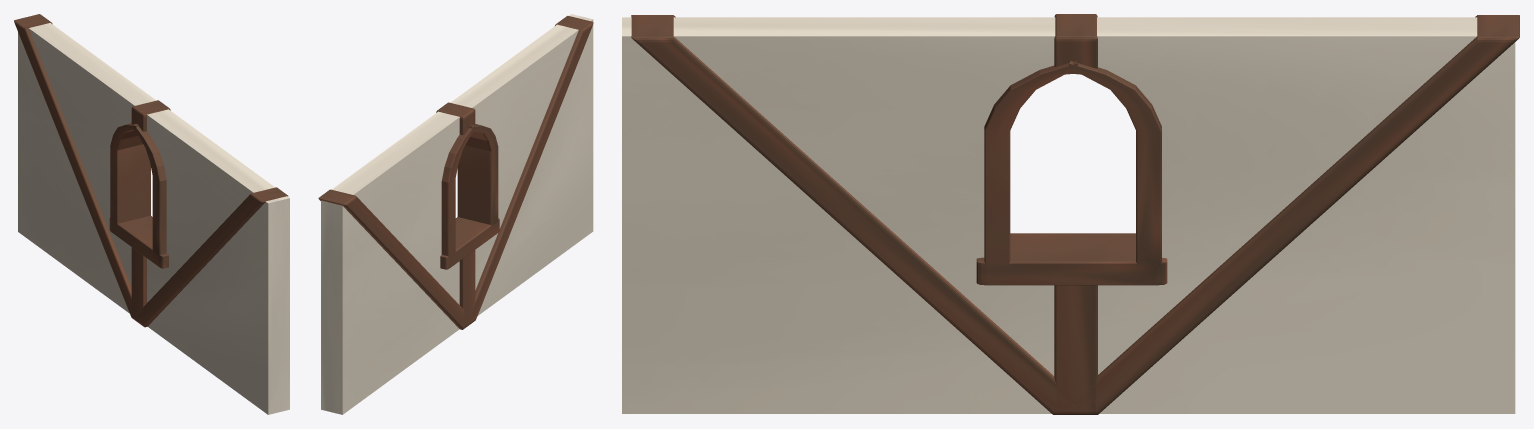
Rendered from Plain_White_Wall_Window.fbx.
3 views of the same model, side by side, from view 1: azimuth 30°, elevation 25°; view 2: azimuth 150°, elevation 25°; view 3: azimuth 270°, elevation 25° (orthographic). The views are drawn at different scales.
Parts seen in each view (by area): view 1: Cube; view 2: Cube; view 3: Cube.
Boxes of the visible parts, x1,y1,x2,y2 form: Cube: (14,14,289,414); Cube: (318,14,593,414); Cube: (622,14,1519,414).
Bounding box in the file's own units: 1.42 × 18.11 × 8.44.
Materials: 6 (6 with a texture image).
